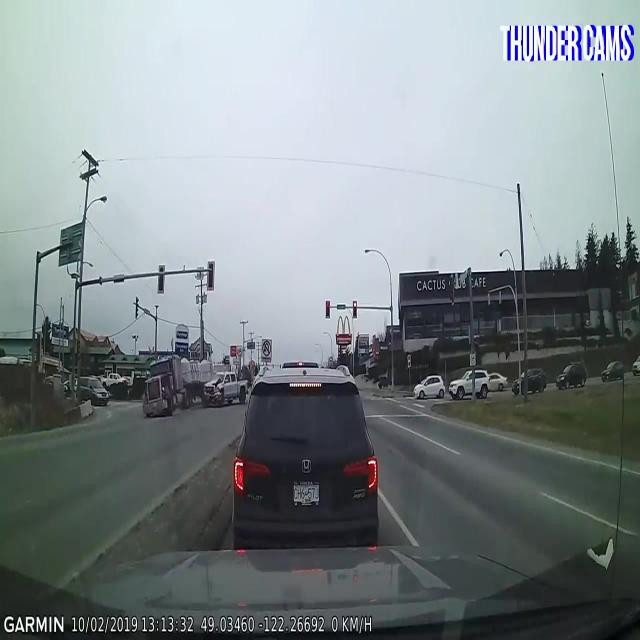accident: (201, 362, 245, 413)
